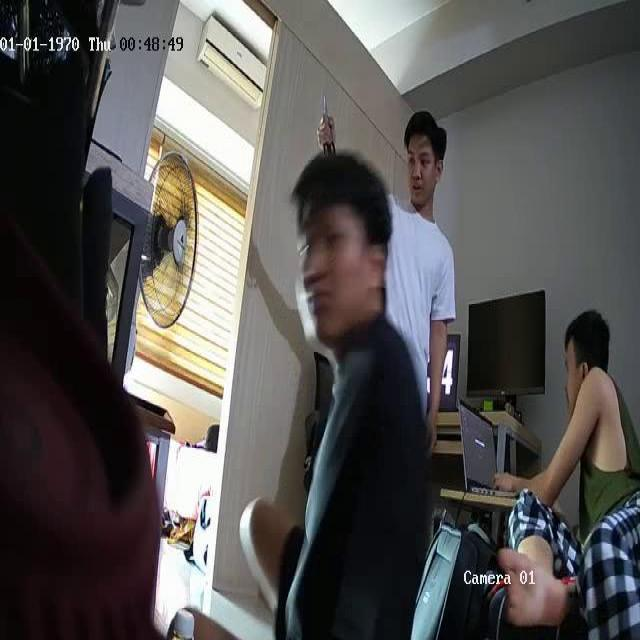scissor: (322, 94, 336, 154)
